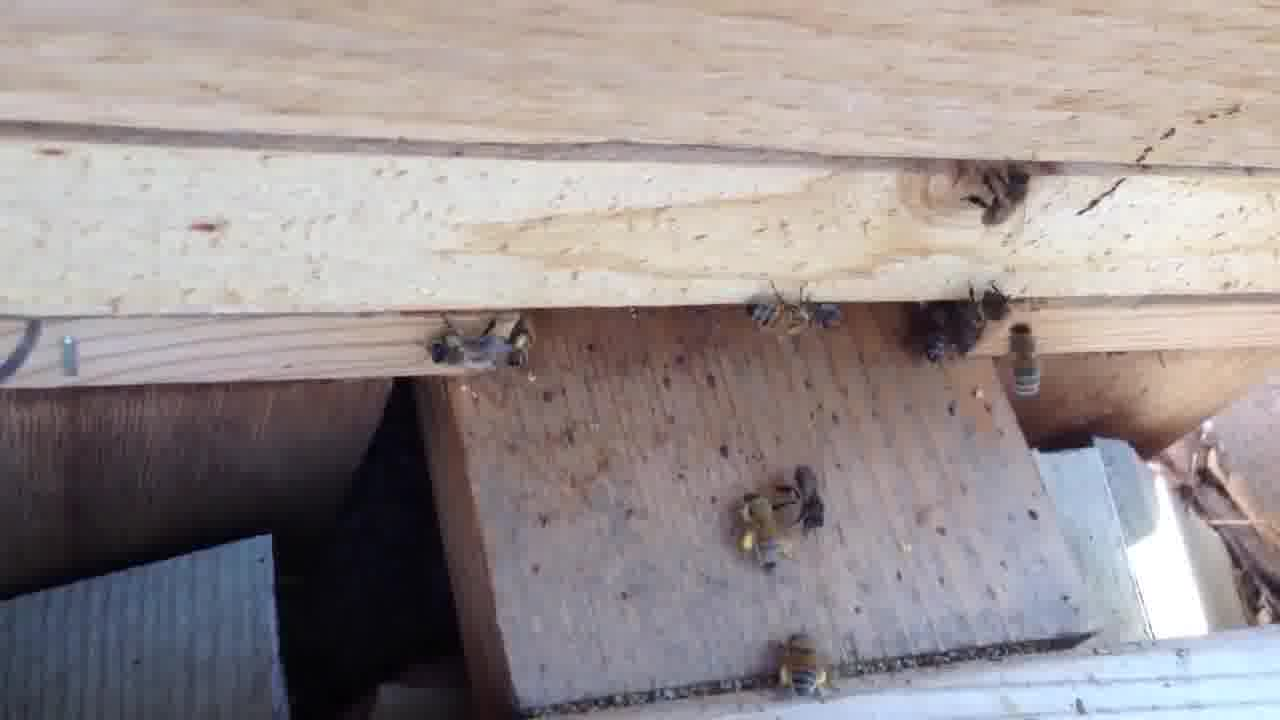pollen: (735, 482, 795, 574), (772, 630, 835, 700)
